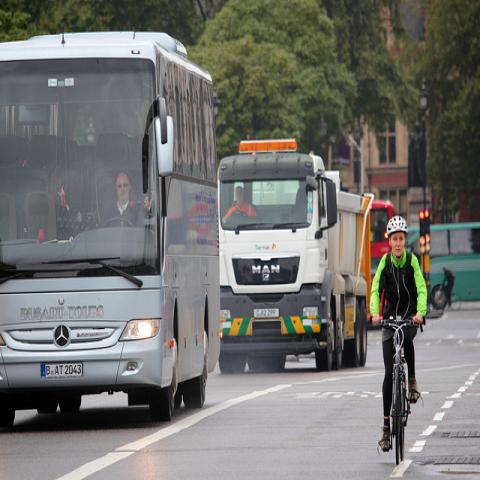bus: (1, 32, 222, 434)
truck: (216, 138, 376, 374), (370, 197, 394, 283)
